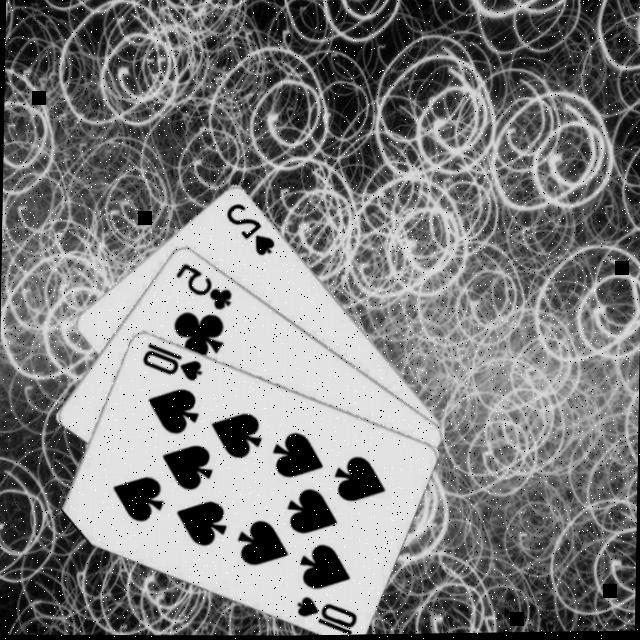10S: (137, 341, 204, 387), (291, 594, 359, 637)
2S: (221, 200, 278, 261)
5C: (170, 260, 234, 316)
